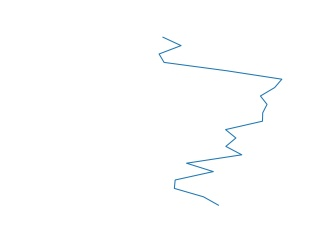floodPlain: (158, 35, 284, 208)
